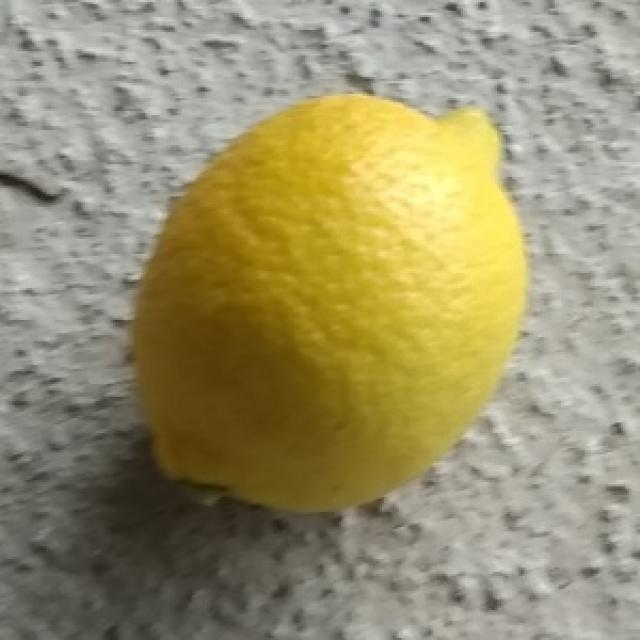Ripe: (117, 87, 539, 514)
